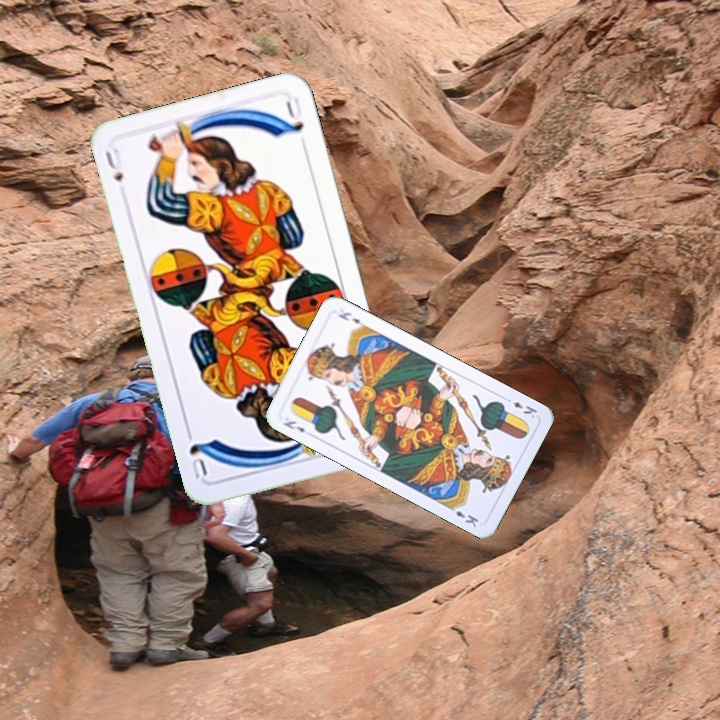EK: (501, 394, 540, 421), (279, 417, 307, 435)
SU: (100, 144, 126, 185)
